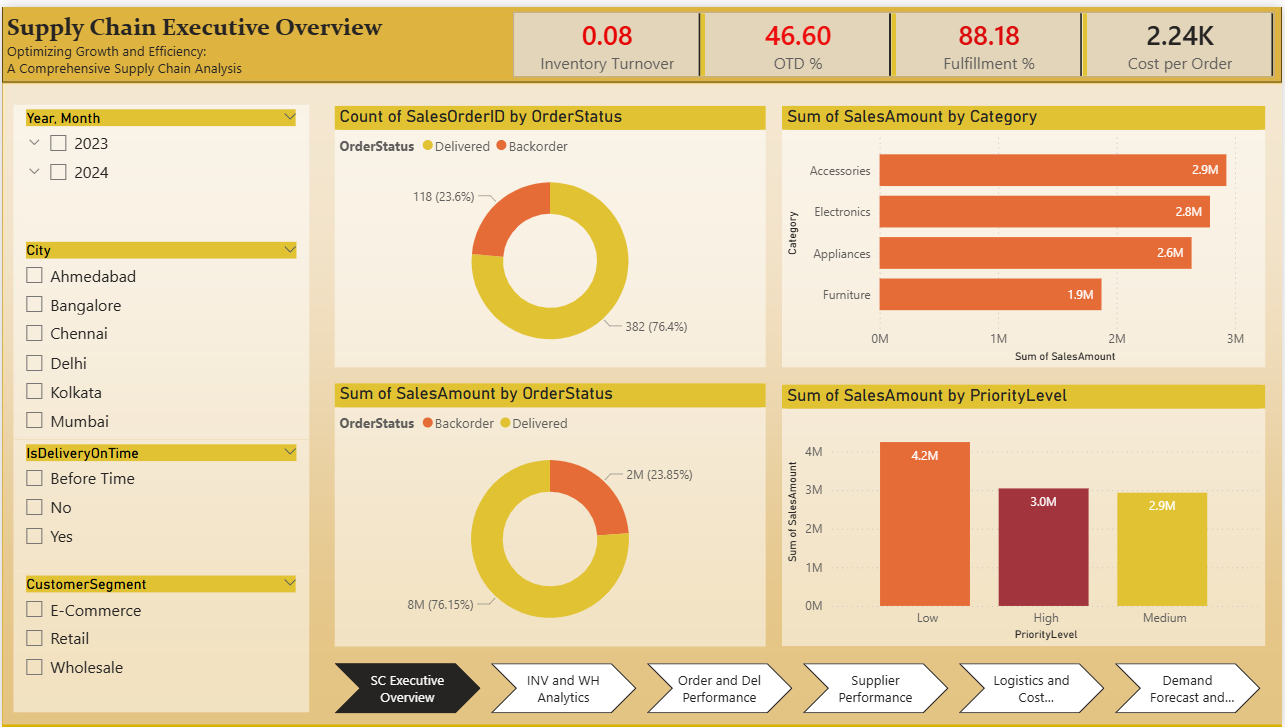

This screenshot's page, from the dashboard's own definition file:
{"tool":"powerbi","page":{"name":"SC Executive Overview","canvas":[1280,720],"ordinal":0},"visuals":[{"type":"textbox","box":[0,0,1280,75],"z":0},{"type":"cardVisual","fields":{"Data":["DelayReason.Inventory Turnover","DelayReason.OTD %","DelayReason.Fulfillment %","DelayReason.Cost per Order"]},"box":[505.7,0,774.3,75.7],"z":1000},{"type":"slicer","fields":{"Values":["Dim_Date.Date.Variation.Date Hierarchy.Year","Dim_Date.Date.Variation.Date Hierarchy.Month"]},"box":[11.4,97.1,295.7,132.9],"z":2000},{"type":"slicer","fields":{"Values":["Dim_Warehouse.City"]},"box":[11.7,230,295.8,202.5],"z":3000},{"type":"donutChart","fields":{"Category":["Fact_SalesOrders.OrderStatus"],"Y":["CountNonNull(Fact_SalesOrders.SalesOrderID)"]},"box":[332.9,98.6,431.4,261.4],"z":4000},{"type":"slicer","fields":{"Values":["Dim_Customer.CustomerSegment"]},"box":[11.4,564.3,295.7,141.4],"z":5000},{"type":"donutChart","fields":{"Y":["Sum(Fact_SalesOrders.SalesAmount)"],"Series":["Fact_SalesOrders.OrderStatus"]},"box":[332.9,375.7,431.4,262.9],"z":6000},{"type":"clusteredBarChart","fields":{"Category":["Dim_Product.Category"],"Y":["Sum(Fact_SalesOrders.SalesAmount)"]},"box":[780,98.6,482.9,261.4],"z":7000},{"type":"slicer","fields":{"Values":["Fact_SalesOrders.IsDeliveryOnTime"]},"box":[11.7,432.5,295.8,131.7],"z":8000},{"type":"clusteredColumnChart","fields":{"Category":["Dim_Customer.PriorityLevel"],"Y":["Sum(Fact_SalesOrders.SalesAmount)"]},"box":[780,377.1,482.9,261.4],"z":9000},{"type":"pageNavigator","box":[332.9,655.7,930,50],"z":10000}]}

Visuals, with their boxes in screenshot pixels (x1, y1, x2, y2), scaled from the page's 1280x720 canvas onto the 1285x727 screenshot:
textbox: 0, 0, 1284, 76
cardVisual - DelayReason.Inventory Turnover x DelayReason.OTD %: 508, 0, 1284, 76
slicer - Dim_Date.Date.Variation.Date Hierarchy.Year x Dim_Date.Date.Variation.Date Hierarchy.Month: 11, 98, 308, 232
slicer - Dim_Warehouse.City: 12, 232, 309, 437
donutChart - Fact_SalesOrders.OrderStatus x CountNonNull(Fact_SalesOrders.SalesOrderID): 334, 100, 767, 364
slicer - Dim_Customer.CustomerSegment: 11, 570, 308, 713
donutChart - Sum(Fact_SalesOrders.SalesAmount) x Fact_SalesOrders.OrderStatus: 334, 379, 767, 645
clusteredBarChart - Dim_Product.Category x Sum(Fact_SalesOrders.SalesAmount): 783, 100, 1268, 364
slicer - Fact_SalesOrders.IsDeliveryOnTime: 12, 437, 309, 570
clusteredColumnChart - Dim_Customer.PriorityLevel x Sum(Fact_SalesOrders.SalesAmount): 783, 381, 1268, 645
pageNavigator: 334, 662, 1268, 713
